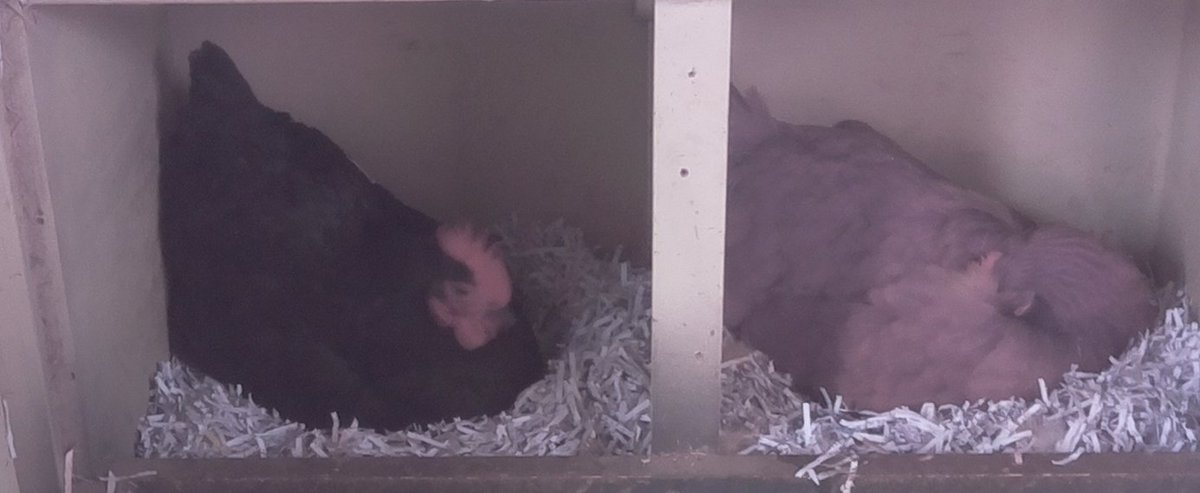hen: (155, 52, 550, 435), (729, 77, 1165, 417)
